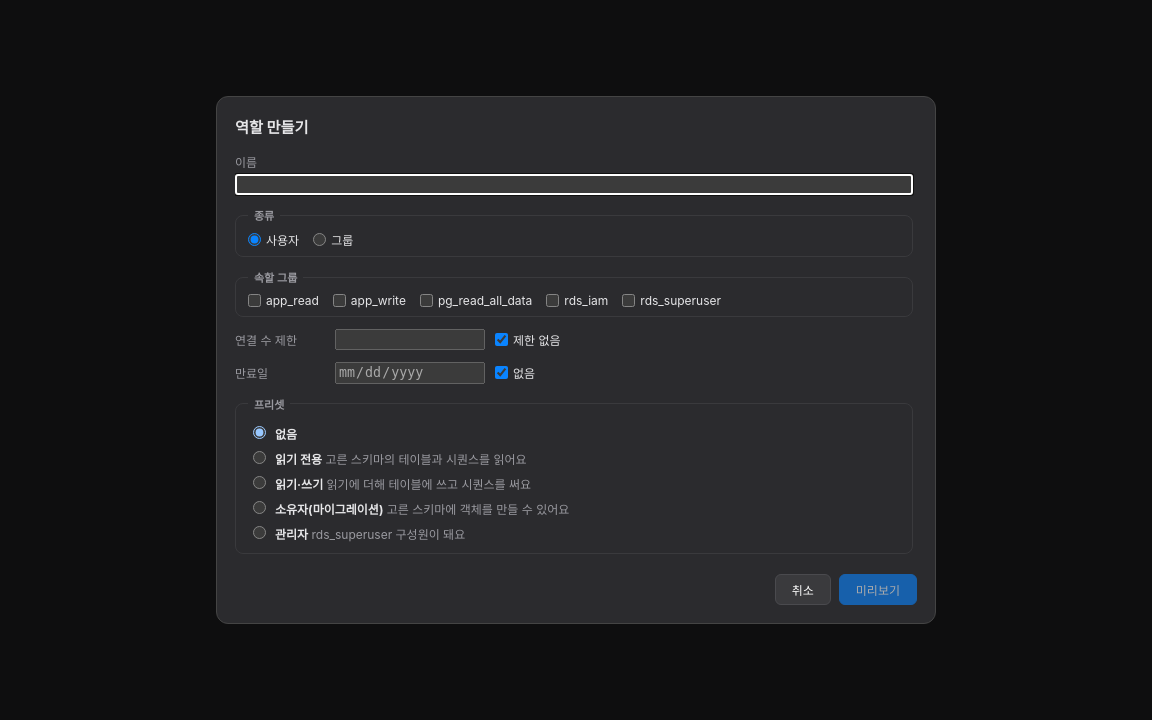
Test: the name › PUBLIC is refused with the backend's text
The width and height of the screenshot is (1152, 720).
Type "PUBLIC" into the field labelled "이름". click: (574, 185)
box: [235, 174, 913, 195]
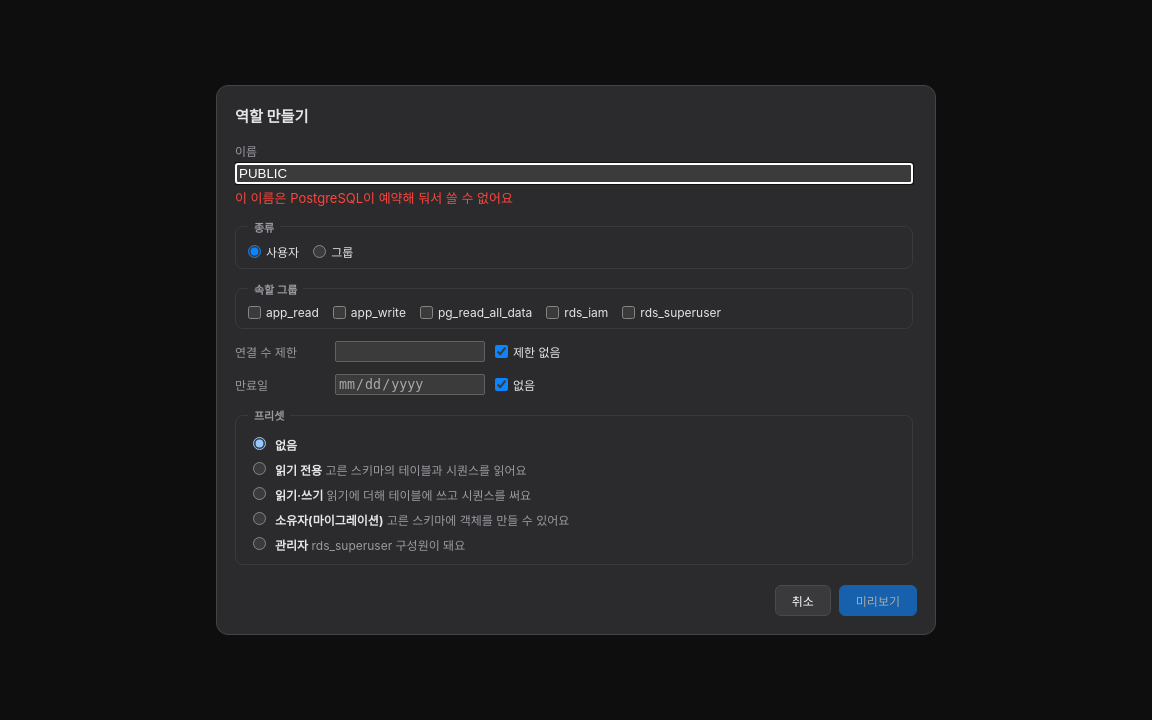
Expected: the button "미리보기" is disabled, [839, 585, 917, 616]
Now the message reads "이 이름은 PostgreSQL이 예약해 둬서 쓸 수 없어요", box [235, 190, 513, 206]
